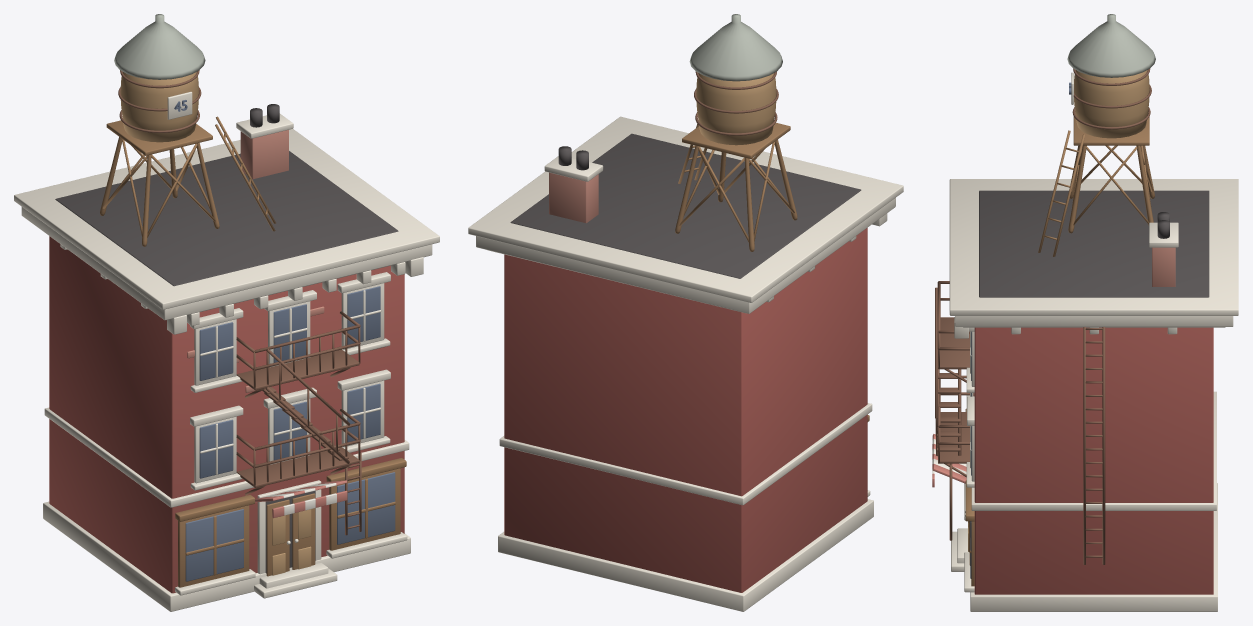
The model's file is edificio13.glb.
The picture shows the model from 3 angles, left to right: view 1: azimuth 30°, elevation 25°; view 2: azimuth 150°, elevation 25°; view 3: azimuth 270°, elevation 25°; orthographic projection. The views are drawn at different scales.
Visible parts, largest first — view 1: corpo, tetto, cornicione_corona, zoccolo, cornicione_fascia, serb_tetto, serb_botte, vetrina_vetro_L, vetrina_vetro_R, fascia_pt, comignolo_fusto, se_b2_pianale (+28 smaller); view 2: corpo, tetto, cornicione_corona, zoccolo, cornicione_fascia, serb_botte, serb_tetto, fascia_pt, comignolo_fusto, serb_piattaforma, comignolo_cappello; view 3: corpo, tetto, cornicione_corona, zoccolo, serb_botte, serb_tetto, cornicione_fascia, fascia_pt, se_b2_pianale, serb_piattaforma, comignolo_fusto, se_b1_pianale (+5 smaller).
Part boxes in pixels (left/top/right/bottom): corpo: left=49, top=236, right=404, bottom=593; tetto: left=55, top=151, right=398, bottom=286; cornicione_corona: left=14, top=129, right=439, bottom=309; zoccolo: left=43, top=501, right=410, bottom=611; cornicione_fascia: left=21, top=207, right=432, bottom=320; serb_tetto: left=114, top=14, right=205, bottom=79; serb_botte: left=120, top=72, right=199, bottom=142; vetrina_vetro_L: left=185, top=509, right=243, bottom=581; vetrina_vetro_R: left=337, top=472, right=395, bottom=544; fascia_pt: left=44, top=407, right=409, bottom=507; comignolo_fusto: left=240, top=130, right=288, bottom=179; se_b2_pianale: left=236, top=349, right=359, bottom=390; corpo: left=504, top=228, right=867, bottom=592; tetto: left=510, top=133, right=861, bottom=278; cornicione_corona: left=468, top=116, right=903, bottom=302; zoccolo: left=498, top=499, right=873, bottom=611; cornicione_fascia: left=476, top=198, right=895, bottom=313; serb_botte: left=696, top=73, right=776, bottom=145; serb_tetto: left=689, top=14, right=782, bottom=81; fascia_pt: left=499, top=403, right=872, bottom=505; comignolo_fusto: left=549, top=172, right=598, bottom=223; serb_piattaforma: left=682, top=123, right=790, bottom=158; comignolo_cappello: left=544, top=156, right=603, bottom=181; corpo: left=974, top=327, right=1213, bottom=594; tetto: left=979, top=190, right=1209, bottom=297; cornicione_corona: left=949, top=179, right=1238, bottom=315; zoccolo: left=970, top=483, right=1217, bottom=611; serb_botte: left=1074, top=70, right=1149, bottom=138; serb_tetto: left=1067, top=14, right=1155, bottom=77; cornicione_fascia: left=955, top=316, right=1233, bottom=326; fascia_pt: left=971, top=391, right=1216, bottom=510; se_b2_pianale: left=938, top=317, right=969, bottom=369; serb_piattaforma: left=1073, top=112, right=1149, bottom=145; comignolo_fusto: left=1152, top=247, right=1175, bottom=286; se_b1_pianale: left=938, top=412, right=969, bottom=463.
Bounding box in the file's own units: 7.15 × 13.02 × 7.06.
